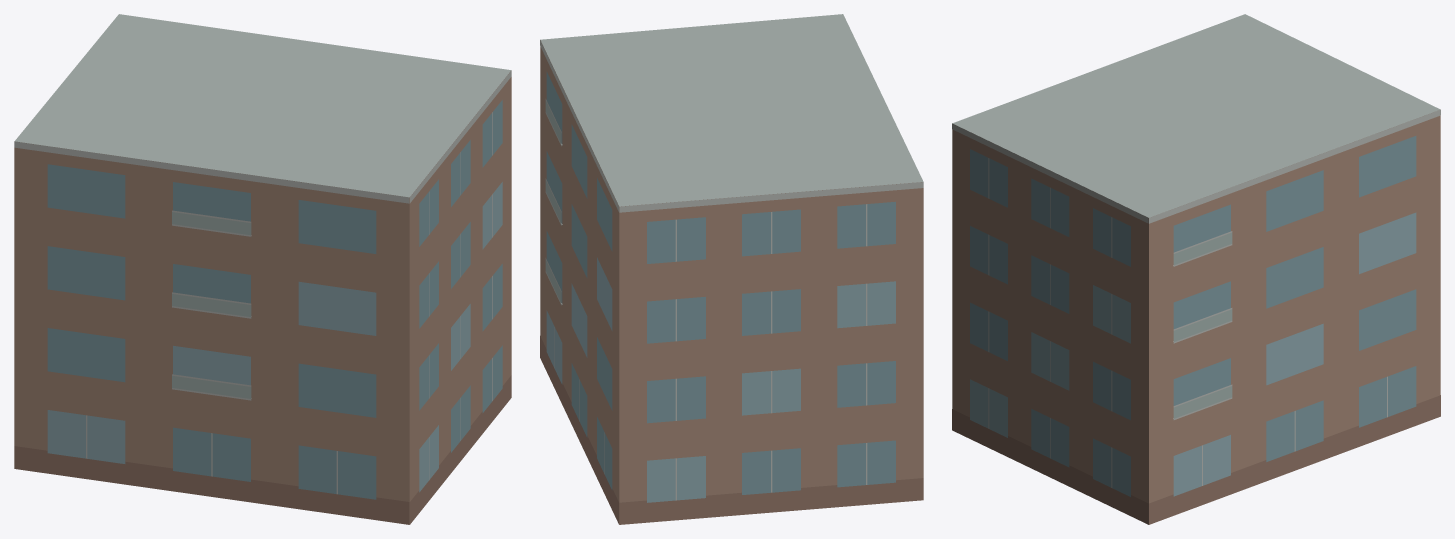
File: survey-upis-32698173.glb
3 views of the same model, side by side, from view 1: azimuth 30°, elevation 25°; view 2: azimuth 150°, elevation 25°; view 3: azimuth 270°, elevation 25° (orthographic). The views are drawn at different scales.
Parts seen in each view (by area): view 1: survey-upis-32698173.tmp; view 2: survey-upis-32698173.tmp; view 3: survey-upis-32698173.tmp.
Boxes of the visible parts, box(x1,y1,x2,y2) form: survey-upis-32698173.tmp: box(14, 14, 511, 524); survey-upis-32698173.tmp: box(540, 14, 923, 524); survey-upis-32698173.tmp: box(952, 14, 1440, 524).
Bounding box in the file's own units: 18.1 × 12.7 × 18.33.
